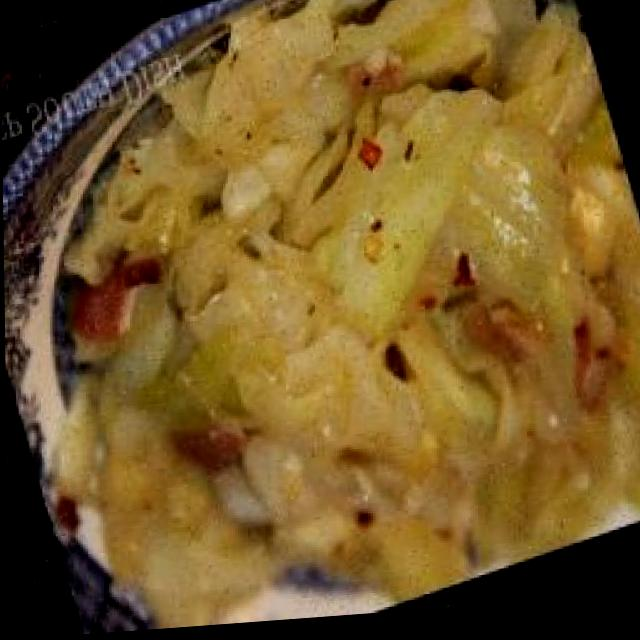chinese_cabbage: (30, 0, 640, 638)
